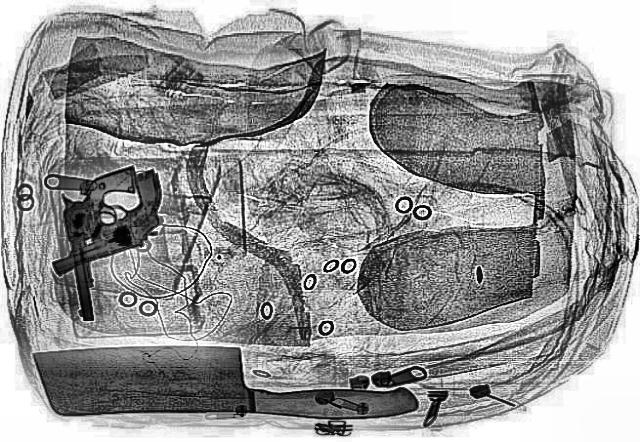Gun: (32, 158, 204, 296), (46, 161, 142, 321)
Knife: (28, 340, 418, 420)
